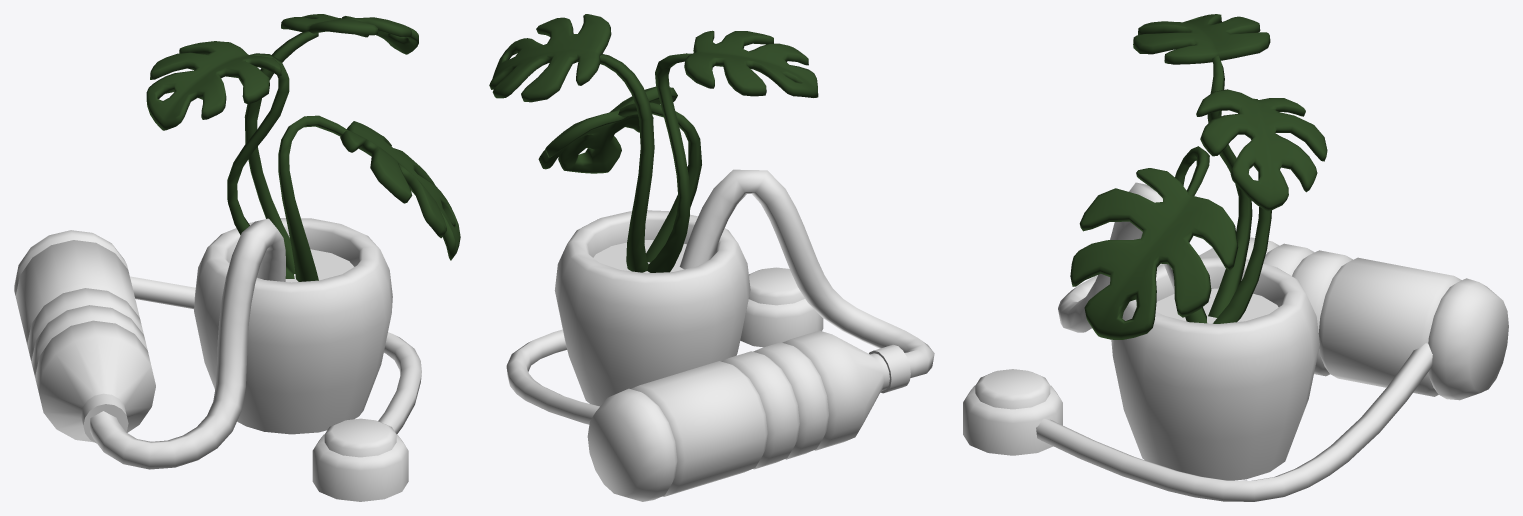
The model's file is plant.fbx.
3 views of the same model, side by side, from view 1: azimuth 30°, elevation 25°; view 2: azimuth 150°, elevation 25°; view 3: azimuth 270°, elevation 25° (orthographic). The views are drawn at different scales.
Visible parts, largest first — view 1: opaaue, transparent; view 2: opaaue, transparent; view 3: opaaue, transparent.
Boxes of the visible parts, x1=… form: opaaue: x1=81, y1=14, x2=460, y2=501; transparent: x1=14, y1=218, x2=285, y2=469; opaaue: x1=489, y1=14, x2=910, y2=424; transparent: x1=587, y1=169, x2=934, y2=501; opaaue: x1=963, y1=14, x2=1432, y2=501; transparent: x1=1058, y1=182, x2=1508, y2=400.
Size of the model in its own units: 0.3396 by 0.4074 by 0.3157.
